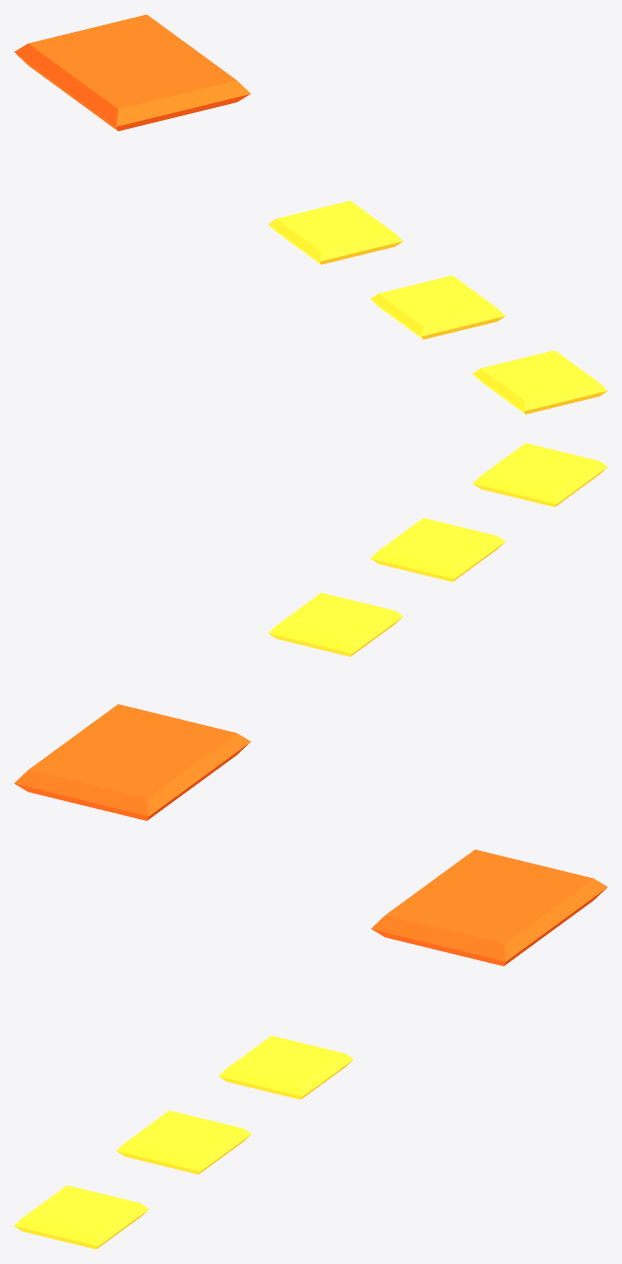
File: bf_elite_overclock.glb
3 views of the same model, one above another, from view 1: azimuth 30°, elevation 25°; view 2: azimuth 150°, elevation 25°; view 3: azimuth 330°, elevation 25° (orthographic).
Visible parts, largest first — view 1: ELITE // HEATED THORAX; view 2: ELITE // HEATED THORAX; view 3: ELITE // HEATED THORAX.
Boxes of the visible parts, left/top/right/bottom form: ELITE // HEATED THORAX: left=14, top=14, right=607, bottom=414; ELITE // HEATED THORAX: left=14, top=443, right=607, bottom=820; ELITE // HEATED THORAX: left=14, top=849, right=607, bottom=1249.
Size of the model in its own units: 0.272 by 0.0552 by 1.69.
